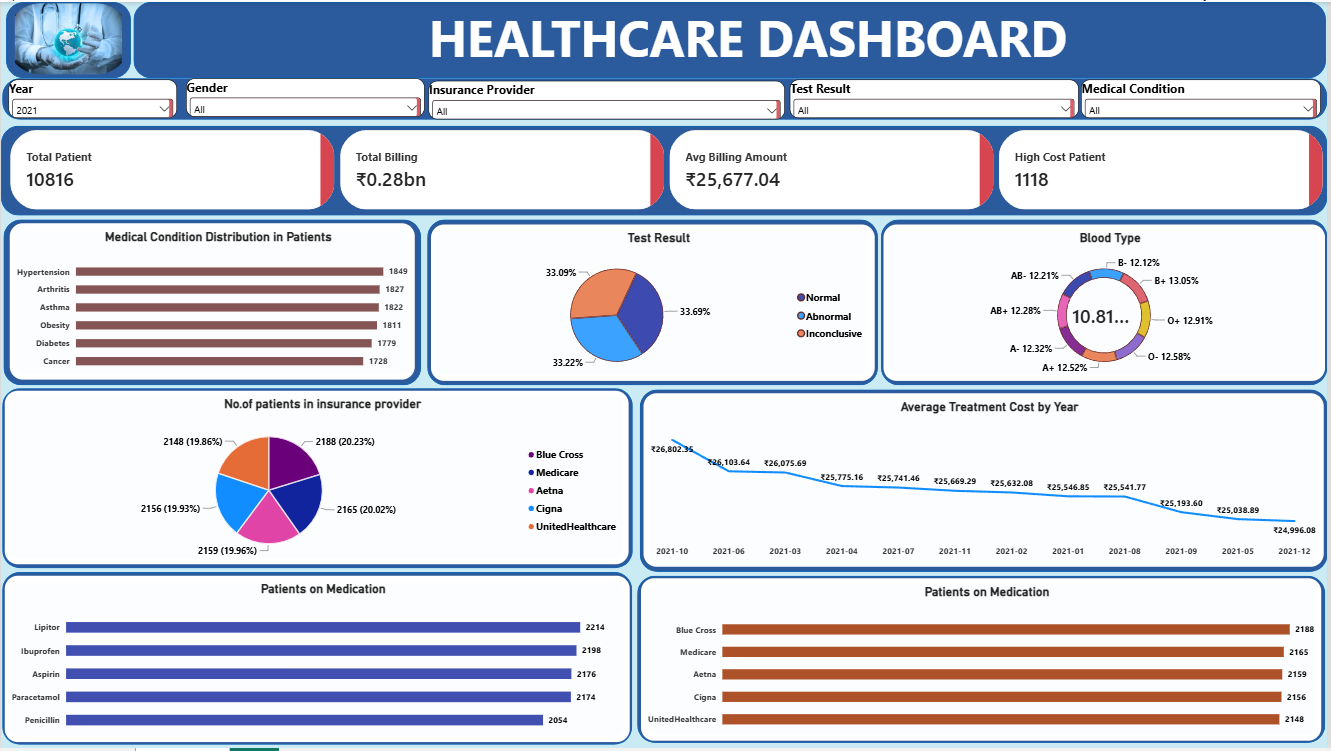

What the dashboard file says about the page in this screenshot:
{"tool":"powerbi","page":{"name":"DASHBOARD","canvas":[1920,1080],"ordinal":0},"visuals":[{"type":"shape","box":[191.8,0,1726.4,110.4],"z":0},{"type":"shape","box":[3.6,314.9,604.6,240],"z":0,"group":"g3"},{"type":"shape","box":[923.9,561,995.9,264.2],"z":0,"group":"g1"},{"type":"shape","box":[921.8,831.2,996,242],"z":0,"group":"g2"},{"type":"group","id":"g1","title":"Group 2","box":[1.8,559.2,1918,266],"z":11,"group":"g4"},{"type":"shape","box":[7.2,0,181,110.4],"z":1000},{"type":"shape","box":[616.9,314.9,652.5,240],"z":1000,"group":"g3"},{"type":"shape","box":[1.8,559.2,912.9,260.5],"z":1000,"group":"g1"},{"type":"shape","box":[1.8,825.2,912,250],"z":1000,"group":"g2"},{"type":"group","id":"g2","title":"Group 4","box":[1.8,825.2,1916,250],"z":1002,"group":"g4"},{"type":"shape","box":[1.8,110.4,1918,60],"z":2000},{"type":"shape","box":[1273.3,314.9,646.3,240],"z":2000,"group":"g3"},{"type":"shape","box":[0,180,1920,130],"z":3000},{"type":"group","id":"g3","title":"Group 1","box":[3.6,314.9,1916.4,238.9],"z":4000},{"type":"group","id":"g4","title":"Group 3","box":[1.8,559.2,1918.2,515.8],"z":5000},{"type":"textbox","box":[274,20,1616,96],"z":6000},{"type":"image","box":[7.2,1.8,181,103.2],"z":7000},{"type":"cardVisual","fields":{"Data":["hospital_db hospital_cleaned.Total Patient","hospital_db hospital_cleaned.Total Billing","hospital_db hospital_cleaned.Avg Billing Amount","hospital_db hospital_cleaned.High Cost Patient"]},"box":[12.7,184.6,1903.8,117.6],"z":8000},{"type":"barChart","title":"Medical Condition Distribution in Patients","fields":{"Category":["hospital_db hospital_cleaned.Medical Condition"],"Y":["hospital_db hospital_cleaned.Total Patient"]},"box":[12.7,320.3,586.3,226.2],"z":9000},{"type":"lineChart","title":"Average Treatment Cost by Year","fields":{"Y":["hospital_db hospital_cleaned.Avg Billing Amount"],"Category":["hospital_db hospital_cleaned.Admission Month"]},"box":[930.2,566.4,984.5,251.5],"z":10000},{"type":"pieChart","title":"No.of patients in insurance provider","fields":{"Category":["hospital_db hospital_cleaned.Insurance Provider"],"Y":["hospital_db hospital_cleaned.Total Patient"]},"box":[5.4,562.8,903,251.5],"z":11000},{"type":"pieChart","title":"Test Result","fields":{"Y":["hospital_db hospital_cleaned.Total Patient"],"Category":["hospital_db hospital_cleaned.Test Results"]},"box":[622.5,322.1,642.4,226.2],"z":12000},{"type":"donutChart","title":"Blood Type","fields":{"Category":["hospital_db hospital_cleaned.Blood Type"],"Y":["hospital_db hospital_cleaned.Total Patient"]},"box":[1277.6,322.1,638.8,226.2],"z":13000},{"type":"barChart","title":"Patients on Medication","fields":{"Category":["hospital_db hospital_cleaned.Medication"],"Y":["hospital_db hospital_cleaned.Total Patient"]},"box":[5.4,830.6,904.8,240.7],"z":14000},{"type":"barChart","title":"Patients on Medication","fields":{"Y":["hospital_db hospital_cleaned.Total Patient"],"Category":["hospital_db hospital_cleaned.Insurance Provider"]},"box":[926.5,834.3,984.5,235.3],"z":15000},{"type":"slicer","title":"Year","fields":{"Values":["hospital_db hospital_cleaned.Admission Year"]},"box":[10.9,112.2,244.3,56.1],"z":15001},{"type":"slicer","title":"Medical Condition","fields":{"Values":["hospital_db hospital_cleaned.Medical Condition"]},"box":[1563.5,112.2,347.5,56.1],"z":15002},{"type":"slicer","title":"Insurance Provider","fields":{"Values":["hospital_db hospital_cleaned.Insurance Provider"]},"box":[618.9,114,515.8,56.1],"z":15003},{"type":"slicer","title":"Test Result","fields":{"Values":["hospital_db hospital_cleaned.Test Results"]},"box":[1141.9,112.2,418,56.1],"z":15004},{"type":"slicer","title":"Gender","fields":{"Values":["hospital_db hospital_cleaned.Gender"]},"box":[267.8,110.4,345.6,56.1],"z":15005}]}

Visuals, with their boxes in screenshot pixels (x1, y1, x2, y2), scaled from the page's 1920x1080 canvas onto the 1331x751 screenshot:
shape: <box>133,0,1330,77</box>
shape: <box>2,219,422,386</box>
shape: <box>640,390,1330,574</box>
shape: <box>639,578,1329,746</box>
"Group 2" group: <box>1,389,1330,574</box>
shape: <box>5,0,130,77</box>
shape: <box>428,219,880,386</box>
shape: <box>1,389,634,570</box>
shape: <box>1,574,633,748</box>
"Group 4" group: <box>1,574,1329,748</box>
shape: <box>1,77,1330,118</box>
shape: <box>883,219,1330,386</box>
shape: <box>0,125,1330,216</box>
"Group 1" group: <box>2,219,1330,385</box>
"Group 3" group: <box>1,389,1330,748</box>
textbox: <box>190,14,1310,81</box>
image: <box>5,1,130,73</box>
cardVisual - hospital_db hospital_cleaned.Total Patient x hospital_db hospital_cleaned.Total Billing: <box>9,128,1329,210</box>
"Medical Condition Distribution in Patients" barChart: <box>9,223,415,380</box>
"Average Treatment Cost by Year" lineChart: <box>645,394,1327,569</box>
"No.of patients in insurance provider" pieChart: <box>4,391,630,566</box>
"Test Result" pieChart: <box>432,224,877,381</box>
"Blood Type" donutChart: <box>886,224,1329,381</box>
"Patients on Medication" barChart: <box>4,578,631,745</box>
"Patients on Medication" barChart: <box>642,580,1325,744</box>
"Year" slicer: <box>8,78,177,117</box>
"Medical Condition" slicer: <box>1084,78,1325,117</box>
"Insurance Provider" slicer: <box>429,79,787,118</box>
"Test Result" slicer: <box>792,78,1081,117</box>
"Gender" slicer: <box>186,77,425,116</box>
